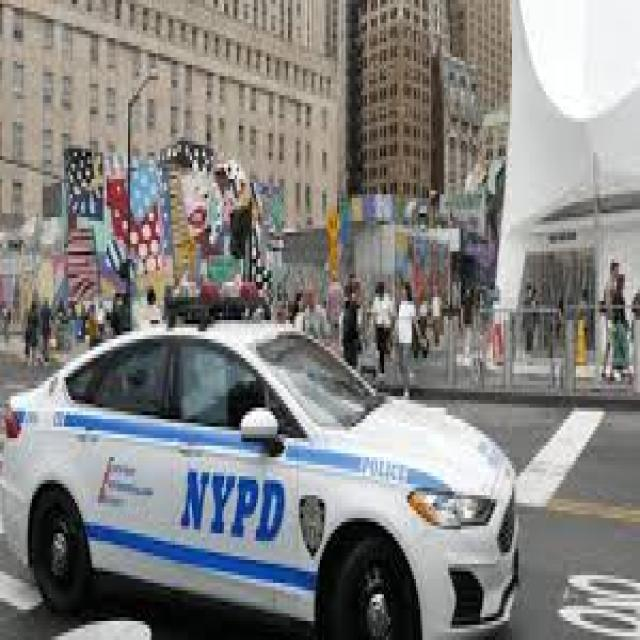cop: (5, 278, 520, 640)
